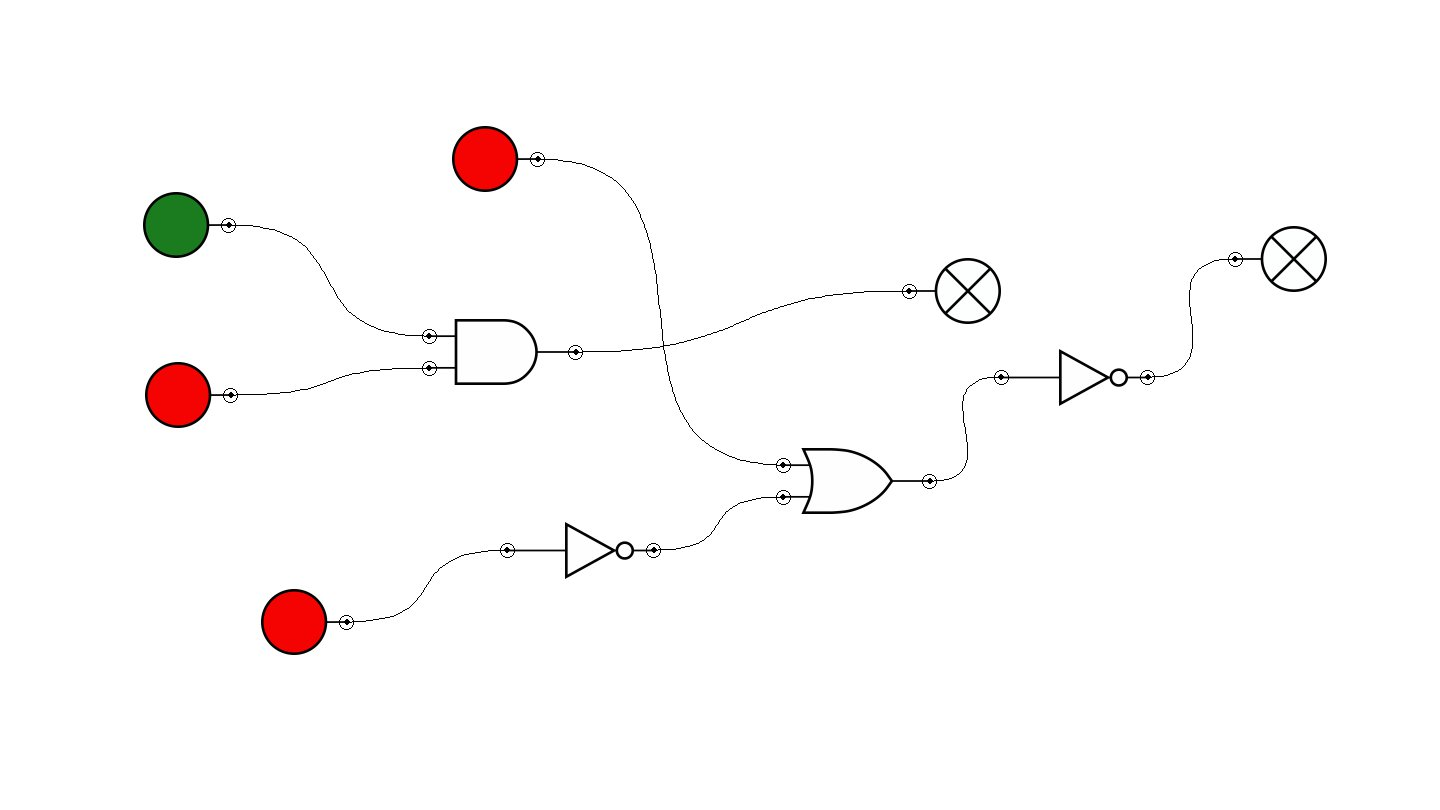and: (422, 319, 583, 385)
bulb: (902, 258, 1001, 324), (1228, 226, 1327, 292)
not: (500, 522, 661, 579), (994, 349, 1155, 406)
or: (776, 448, 937, 514)
switch_False: (145, 362, 238, 428), (261, 589, 354, 655), (452, 126, 545, 192)
switch_True: (143, 192, 236, 258)
